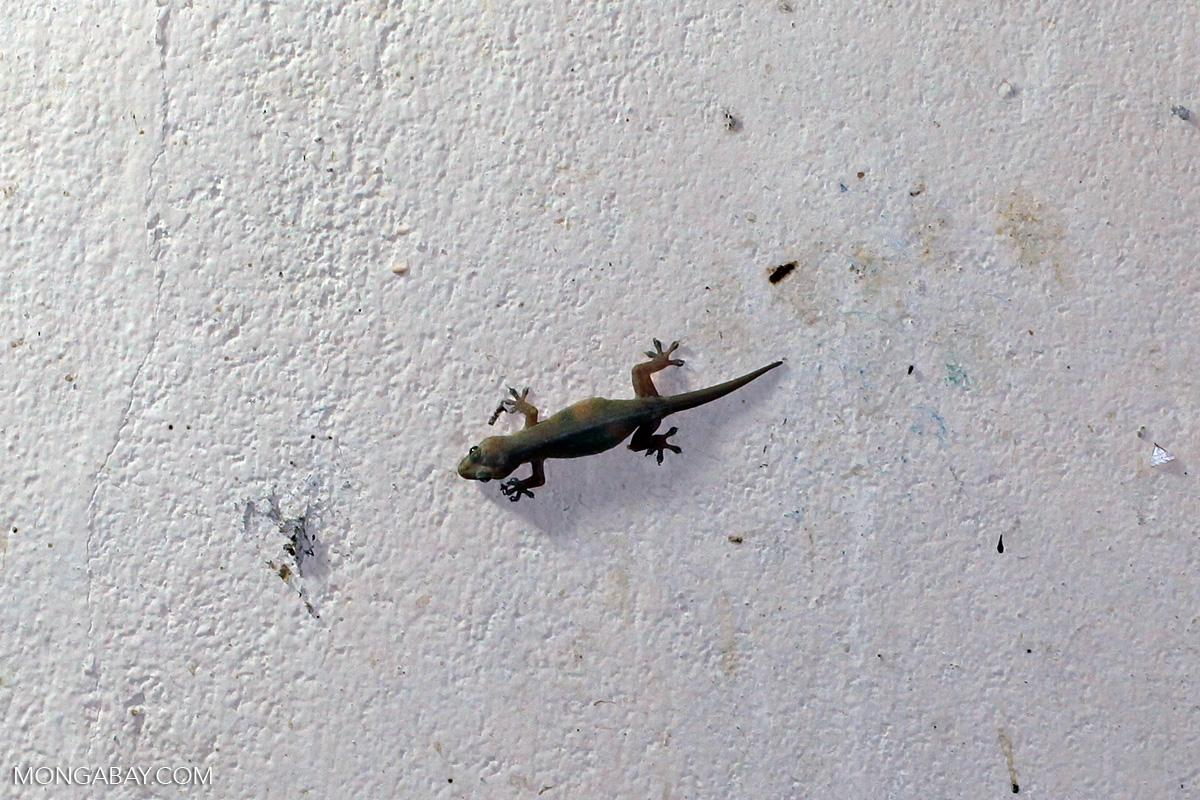lizard: (453, 337, 784, 506)
